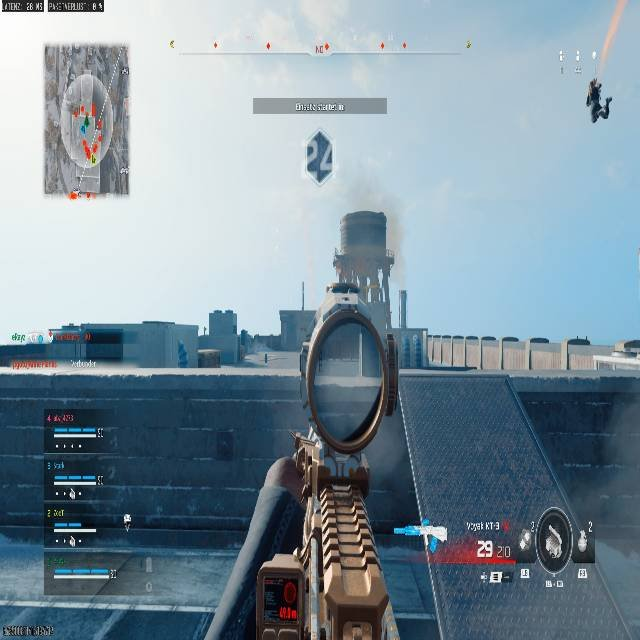player: (584, 81, 612, 124)
